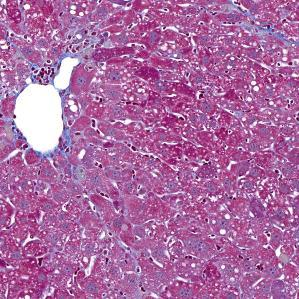fibrosis: (62, 144, 109, 258)
